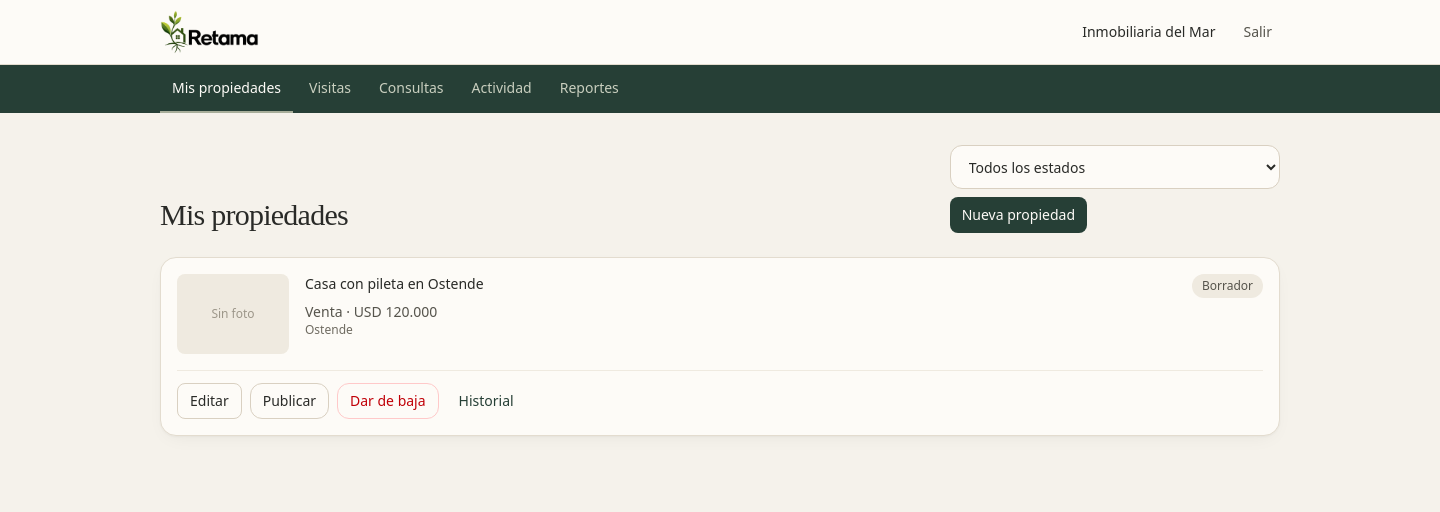
ciclo de vida de la propiedad › si el back rechaza la transicion se muestra el error y el estado en pantalla no cambia
This screenshot has width=1440, height=512.
Click the button "Publicar" at [289, 401], box [250,383,329,419]
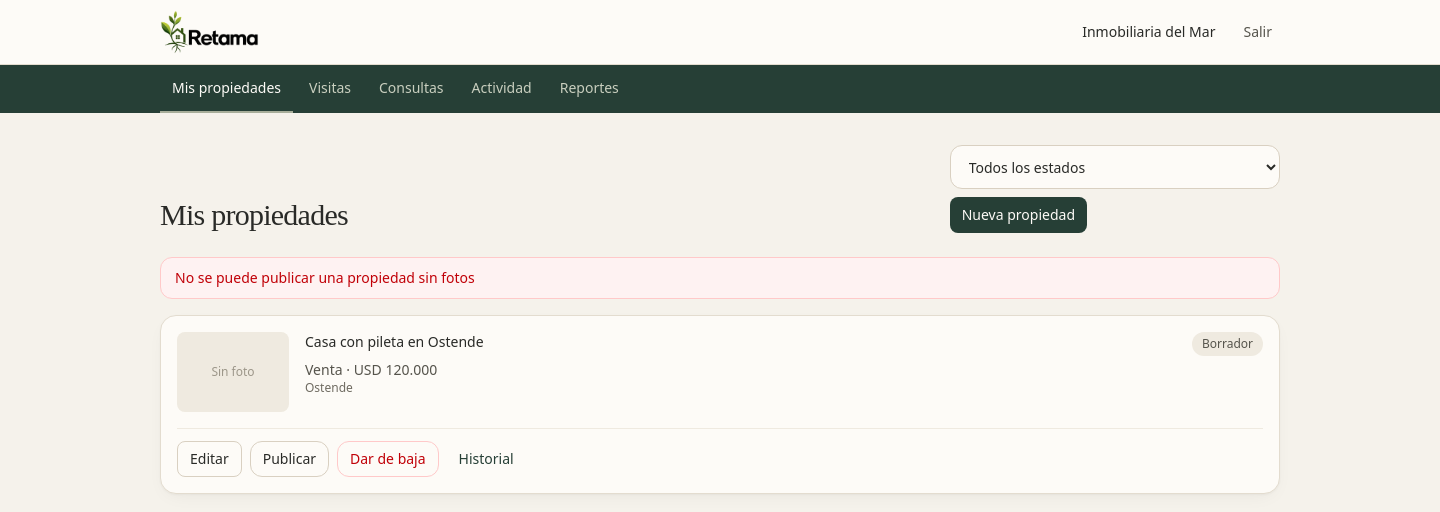
Check: the text "Borrador" is shown, box [1192,332,1263,356]
Check: the message reads "No se puede publicar una propiedad sin fotos", box [175,268,475,287]
